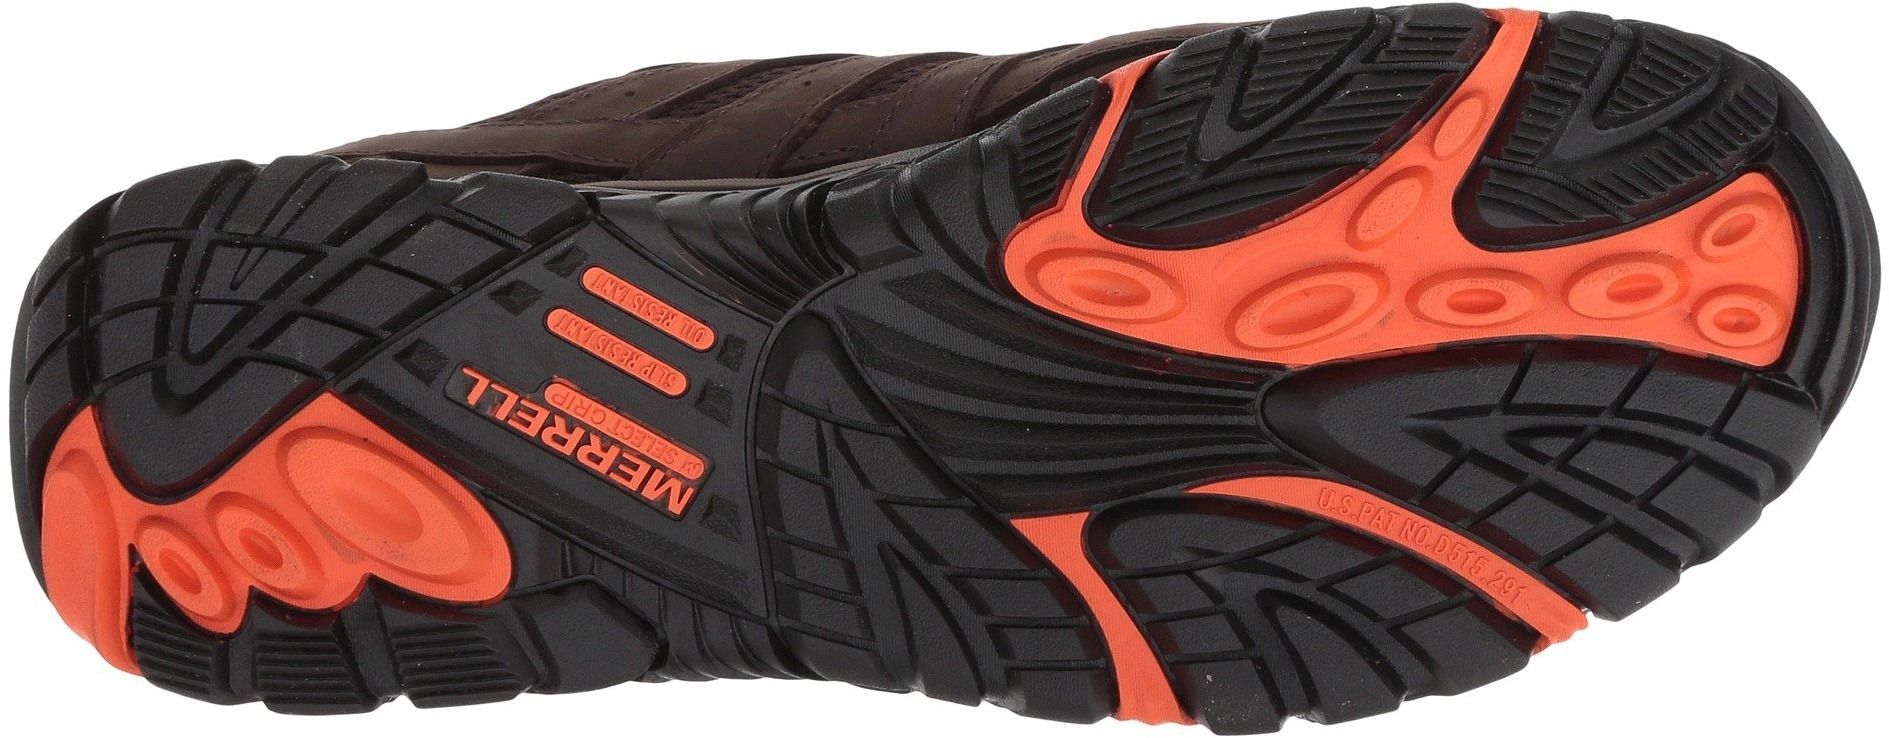chevron: (123, 203, 366, 376)
circle: (1236, 82, 1528, 354), (229, 443, 447, 594), (1282, 183, 1446, 327)
line: (1236, 82, 1528, 354), (945, 308, 1160, 509), (1575, 0, 1775, 153), (386, 616, 518, 725)
quad: (1516, 348, 1764, 572), (123, 203, 366, 376), (735, 418, 942, 612), (1113, 553, 1310, 712), (1337, 548, 1491, 685), (384, 206, 516, 305)
text: (505, 315, 678, 482)
triangle: (123, 203, 366, 376), (1575, 0, 1775, 153)
